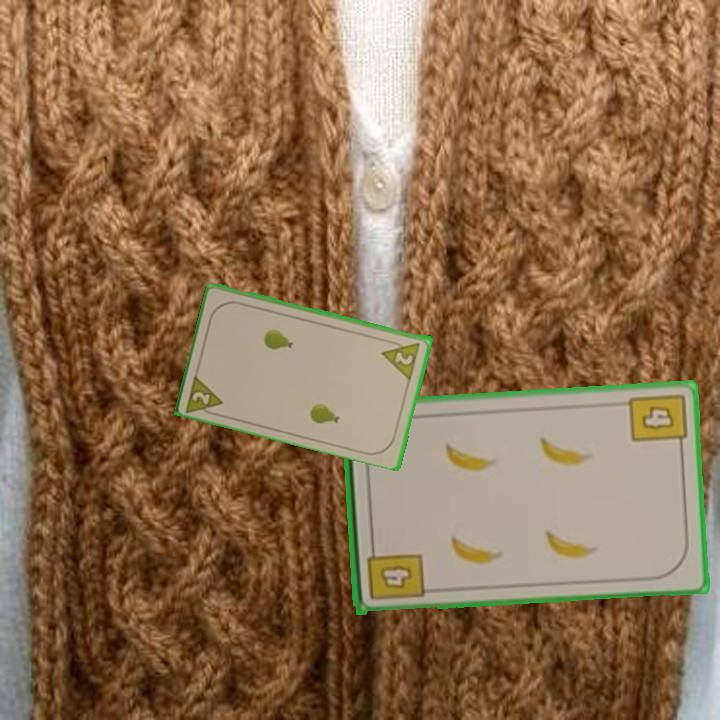2p: (182, 369, 227, 419), (379, 335, 423, 381)
4b: (626, 389, 689, 454), (363, 539, 426, 603)
